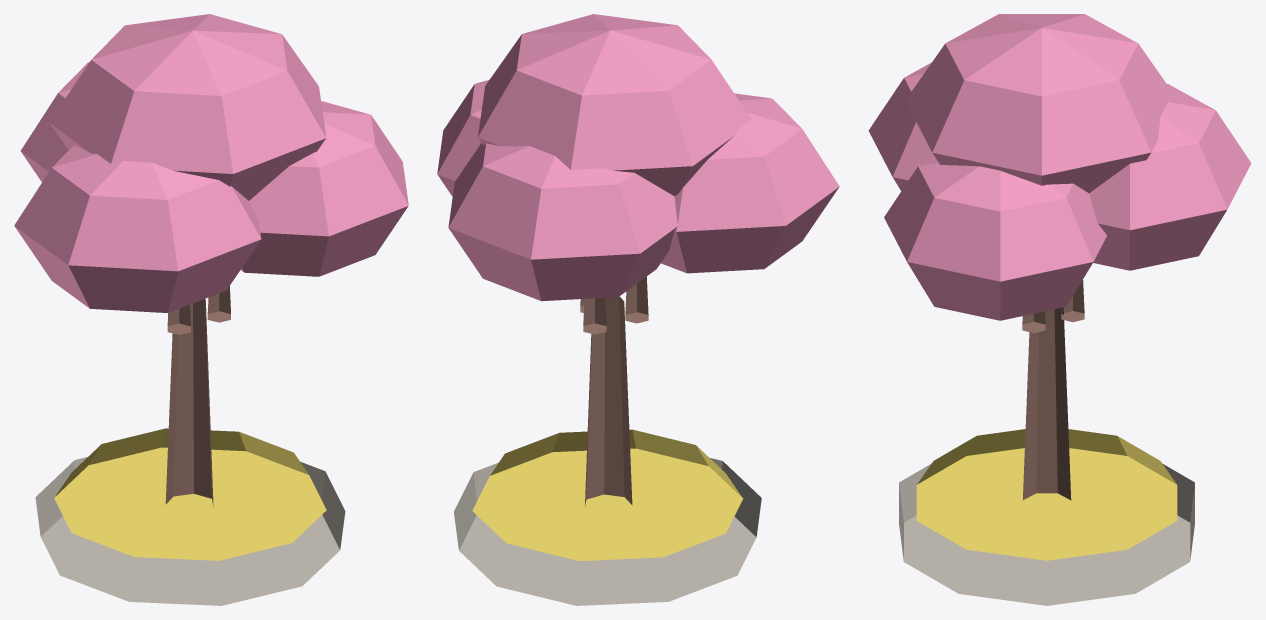
The model's file is flora_28_prunus_campanulata_hoa_anh_dao_nhat_van_thanh.glb.
3 views of the same model, side by side, from view 1: azimuth 30°, elevation 25°; view 2: azimuth 150°, elevation 25°; view 3: azimuth 270°, elevation 25° (orthographic).
Parts seen in each view (by area): view 1: flora_28_prunus_campanulata_hoa_anh_dao_nhat_van_thanh; view 2: flora_28_prunus_campanulata_hoa_anh_dao_nhat_van_thanh; view 3: flora_28_prunus_campanulata_hoa_anh_dao_nhat_van_thanh.
Boxes of the visible parts, box(x1,y1,x2,y2) form: flora_28_prunus_campanulata_hoa_anh_dao_nhat_van_thanh: box(14, 14, 408, 605); flora_28_prunus_campanulata_hoa_anh_dao_nhat_van_thanh: box(437, 14, 839, 605); flora_28_prunus_campanulata_hoa_anh_dao_nhat_van_thanh: box(868, 14, 1251, 605).
Size of the model in its own units: 4.08 by 5.47 by 3.69.
